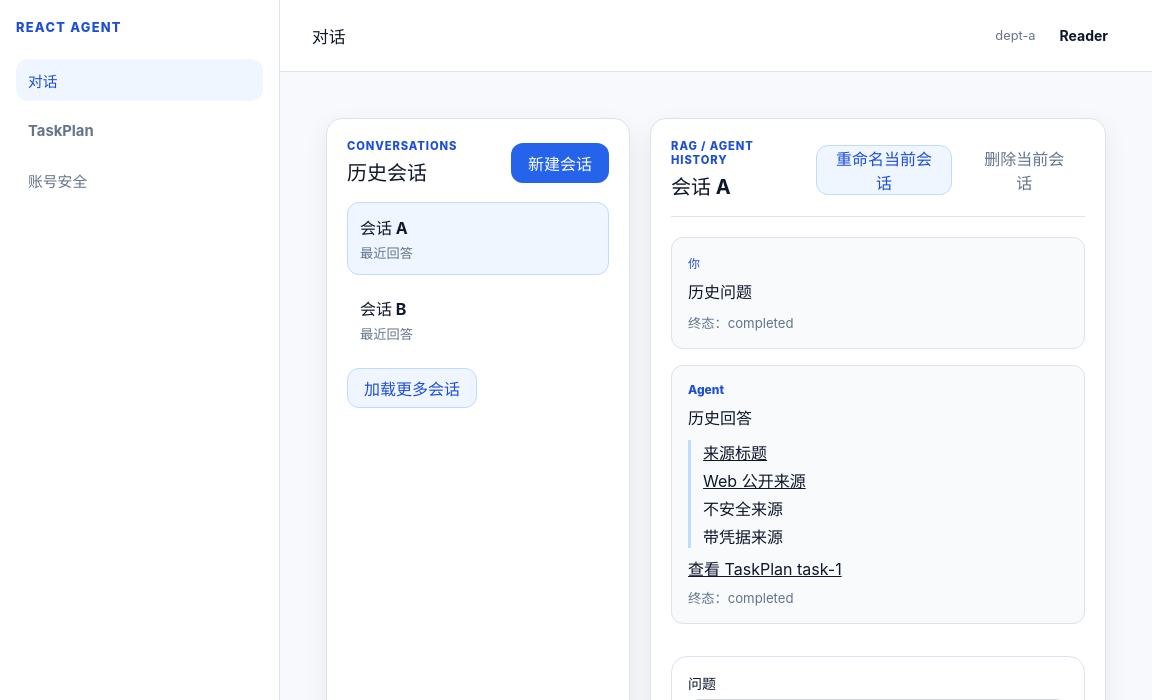
Test: Conversations workspace › restores selected history and appends cursor pages without duplicates
Expected: the heading "会话 A" is shown, left=671, top=175, right=731, bottom=199
Expected: the text "历史问题" is shown, left=688, top=282, right=752, bottom=302
Click the button "加载更多会话": (412, 388) left=347, top=368, right=477, bottom=408
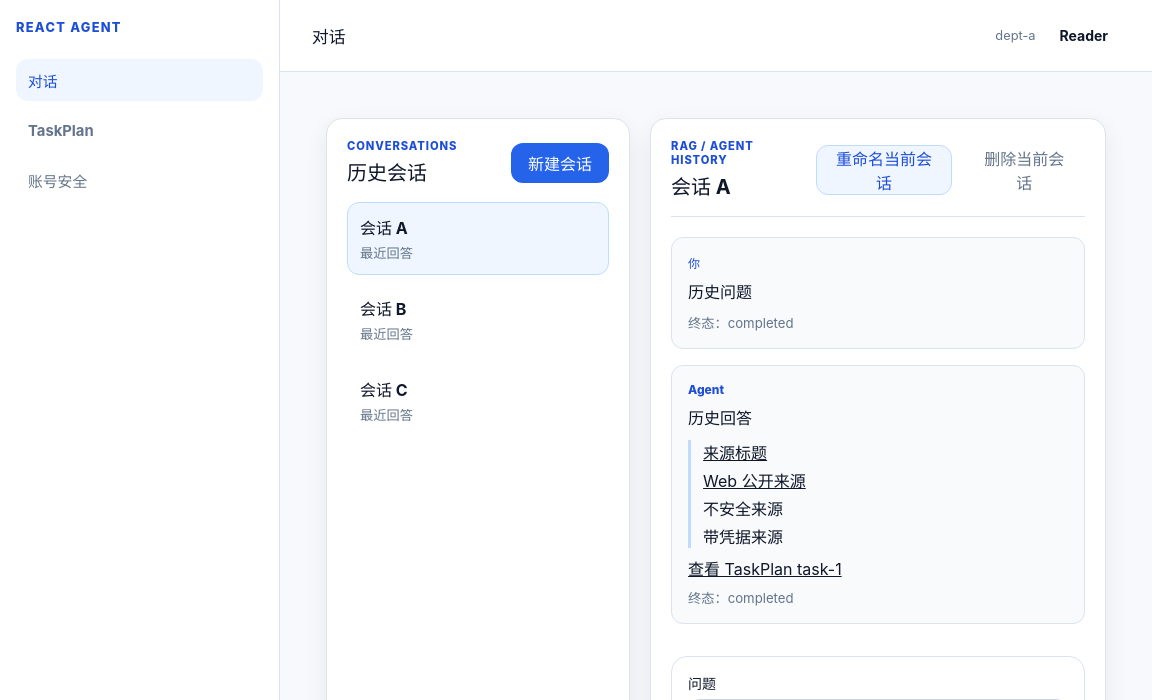
Expected: the links read "会话 A最近回答", "会话 B最近回答", "会话 C最近回答", in this order, left=347, top=202, right=609, bottom=275; left=360, top=299, right=413, bottom=342; left=360, top=380, right=413, bottom=423
